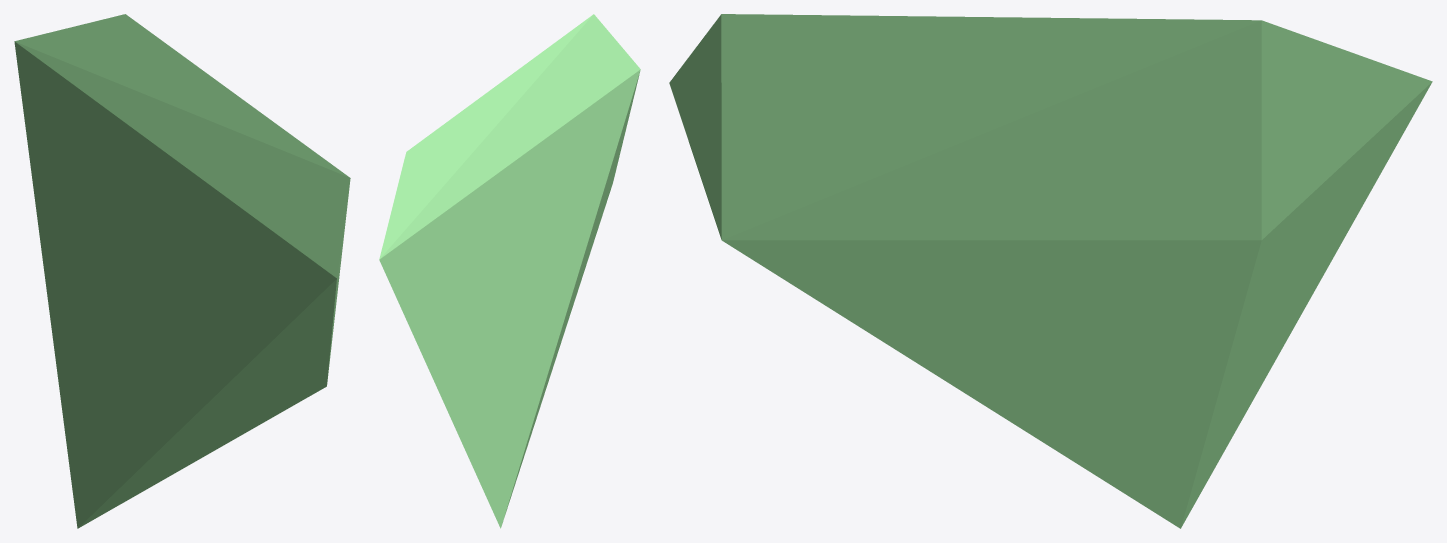
Rendered from UMIRobot_UMIRobot_link_2_convex_coll_17.dae.
3 views of the same model, side by side, from view 1: azimuth 30°, elevation 25°; view 2: azimuth 150°, elevation 25°; view 3: azimuth 270°, elevation 25° (orthographic). The views are drawn at different scales.
Visible parts, largest first — view 1: node; view 2: node; view 3: node.
Boxes of the visible parts, box(x1,y1,x2,y2) form: node: box(14, 14, 350, 528); node: box(379, 14, 640, 528); node: box(669, 14, 1432, 528).
Size of the model in its own units: 0.00624 by 0.0344 by 0.0424.
